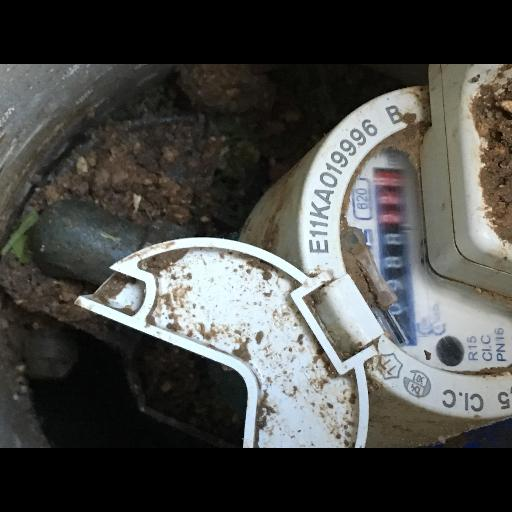0: (382, 301, 413, 317)
8: (381, 254, 407, 271), (381, 232, 408, 247)
9: (380, 277, 410, 294)
border_water_meter_number: (371, 166, 418, 349)
